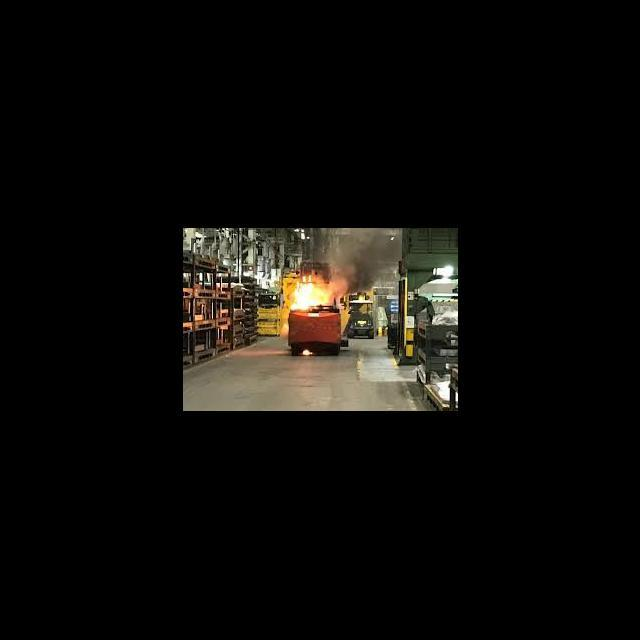Fire: (289, 278, 333, 310), (302, 348, 314, 357)
Smoke: (333, 230, 400, 296)
